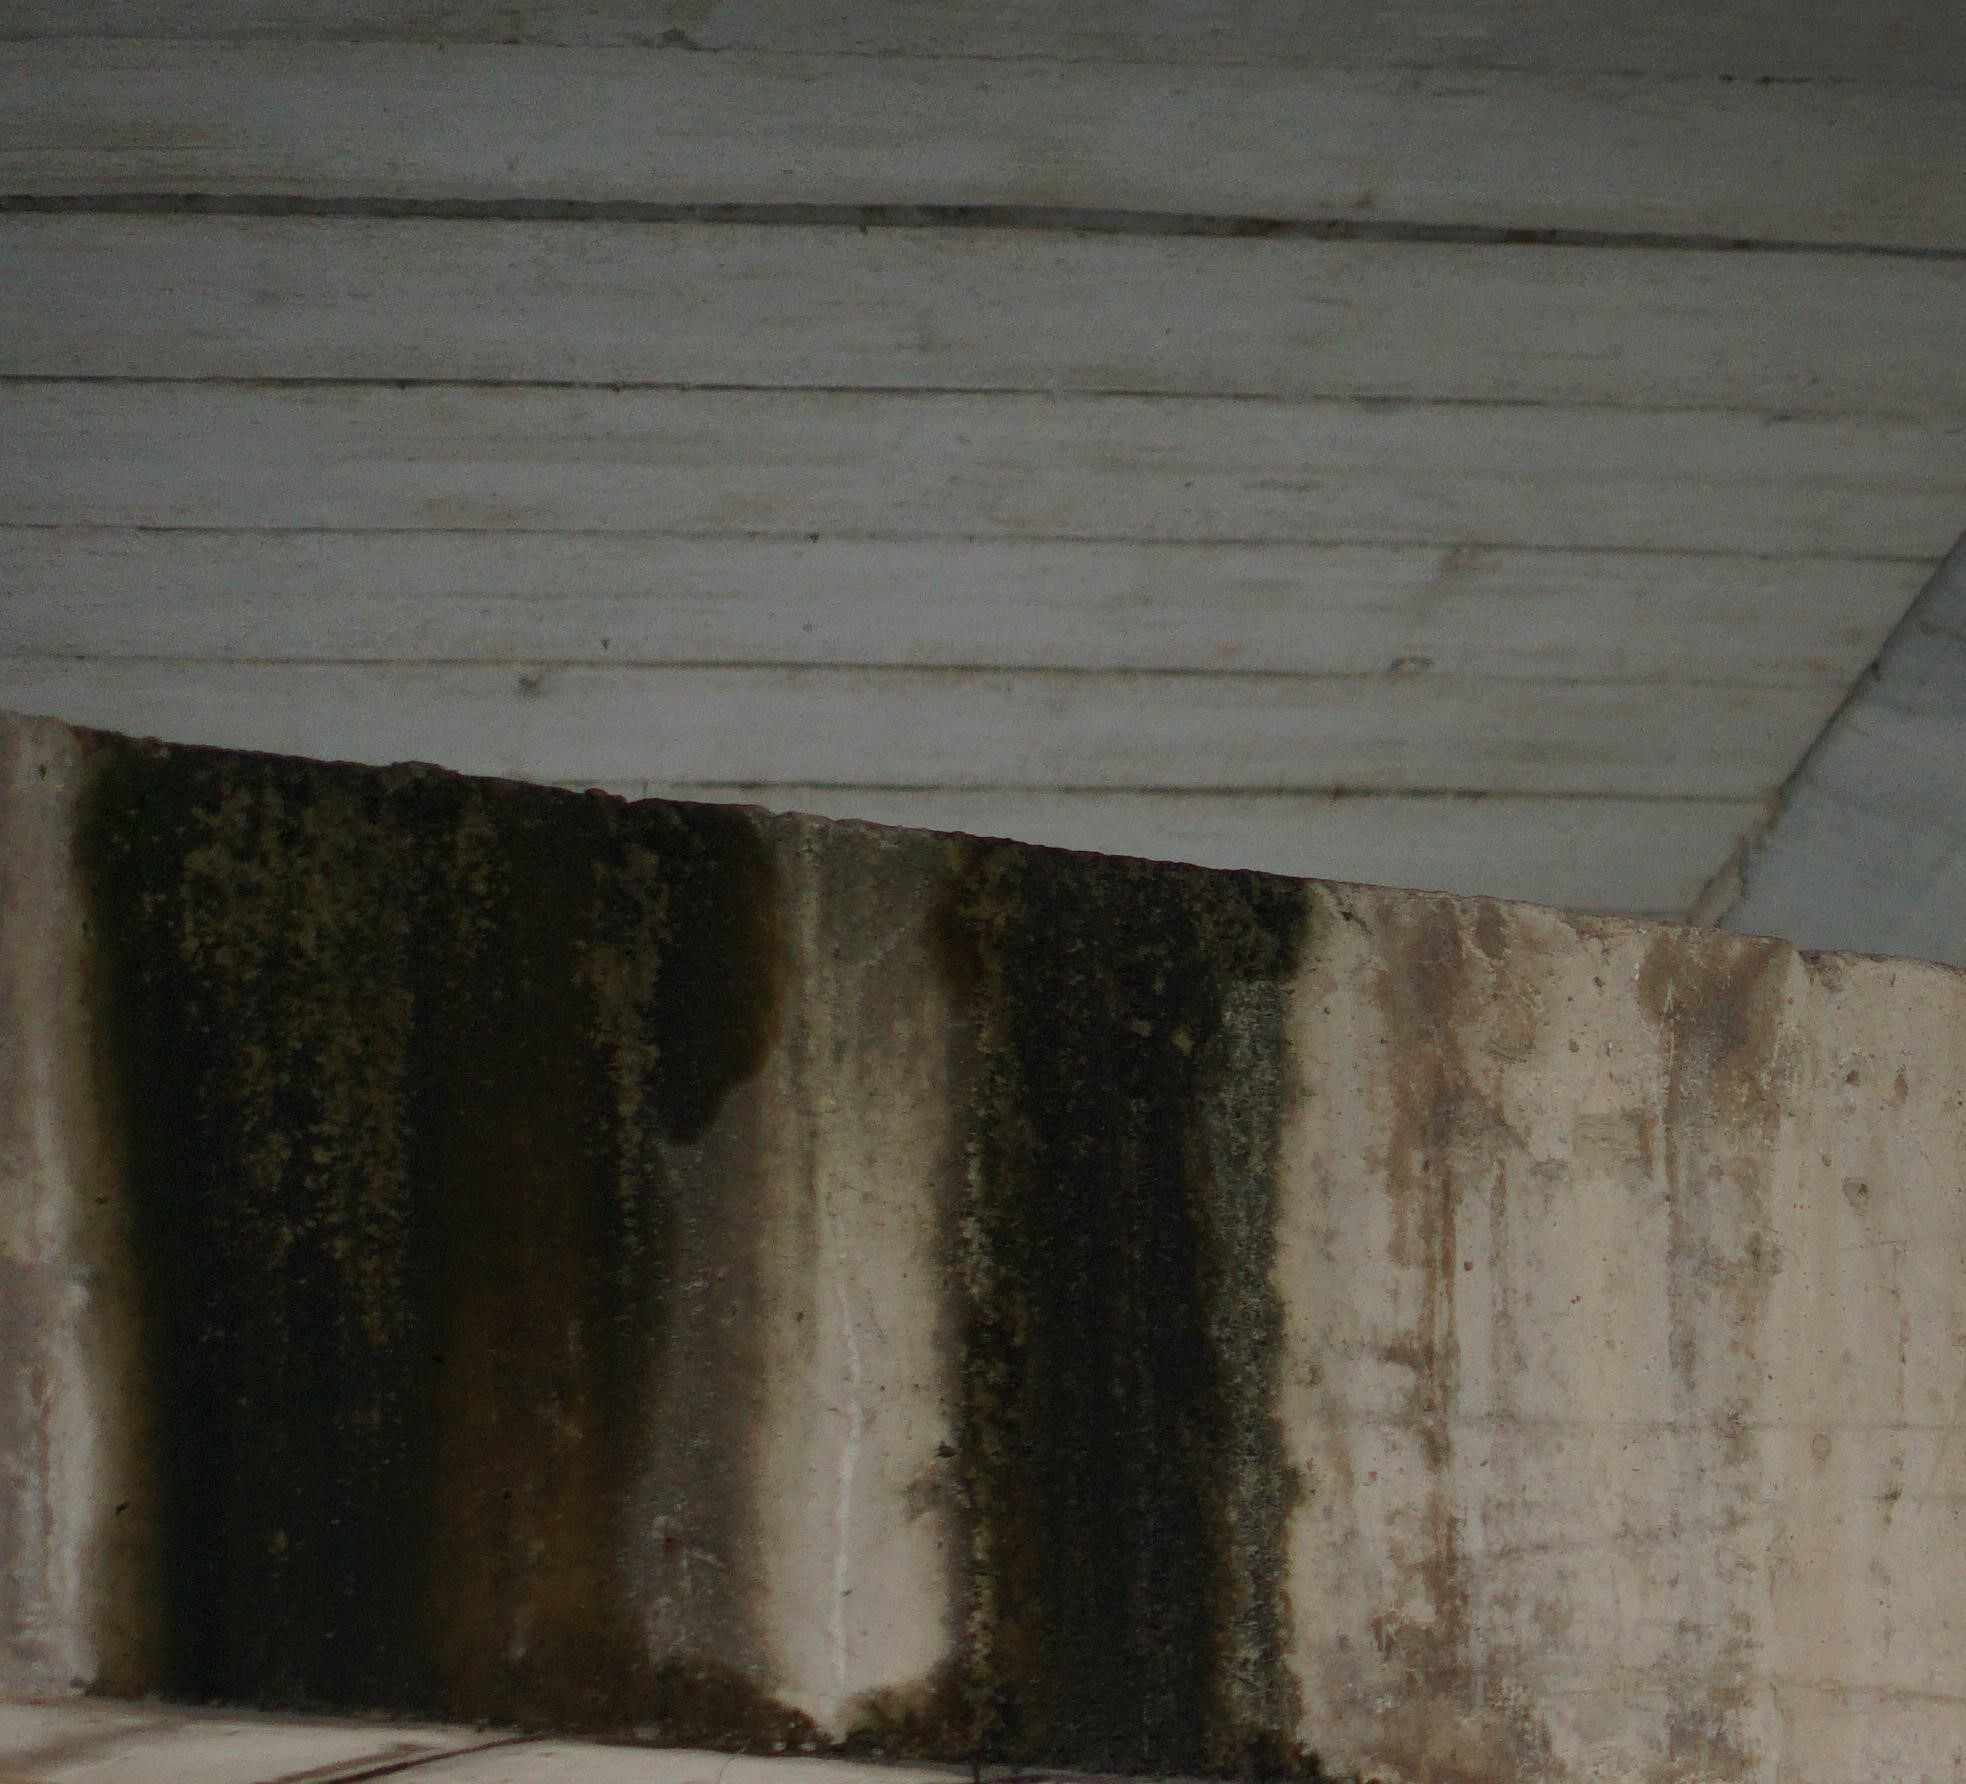Corrosion: (62, 723, 837, 1765), (839, 820, 1361, 1784)
